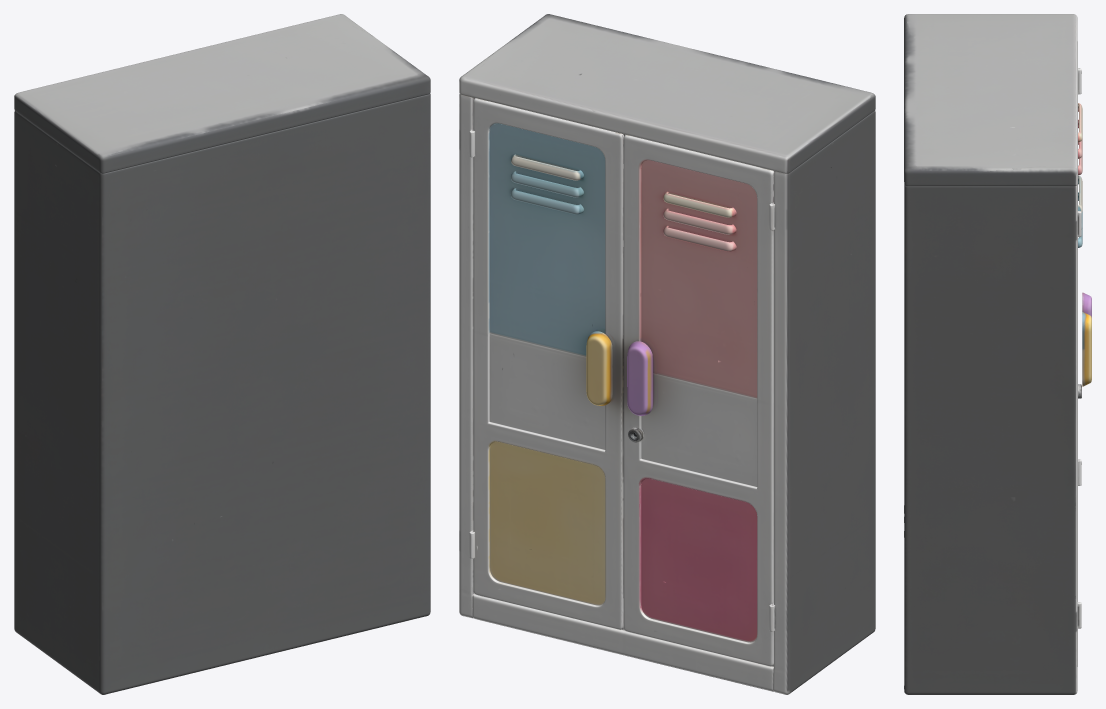
Rendered from SM_J_HrCabinet.glb.
3 views of the same model, side by side, from view 1: azimuth 30°, elevation 25°; view 2: azimuth 150°, elevation 25°; view 3: azimuth 270°, elevation 25° (orthographic). The views are drawn at different scales.
Parts seen in each view (by area): view 1: SM_J_HrCabinet; view 2: SM_J_HrCabinet; view 3: SM_J_HrCabinet.
Part boxes in pixels (box(x1,y1,x2,y2)): SM_J_HrCabinet: box(14, 14, 430, 694); SM_J_HrCabinet: box(459, 14, 875, 694); SM_J_HrCabinet: box(904, 14, 1091, 694).
Bounding box in the file's own units: 1.13 × 1.77 × 0.5714.
1 material, 1 textured.
